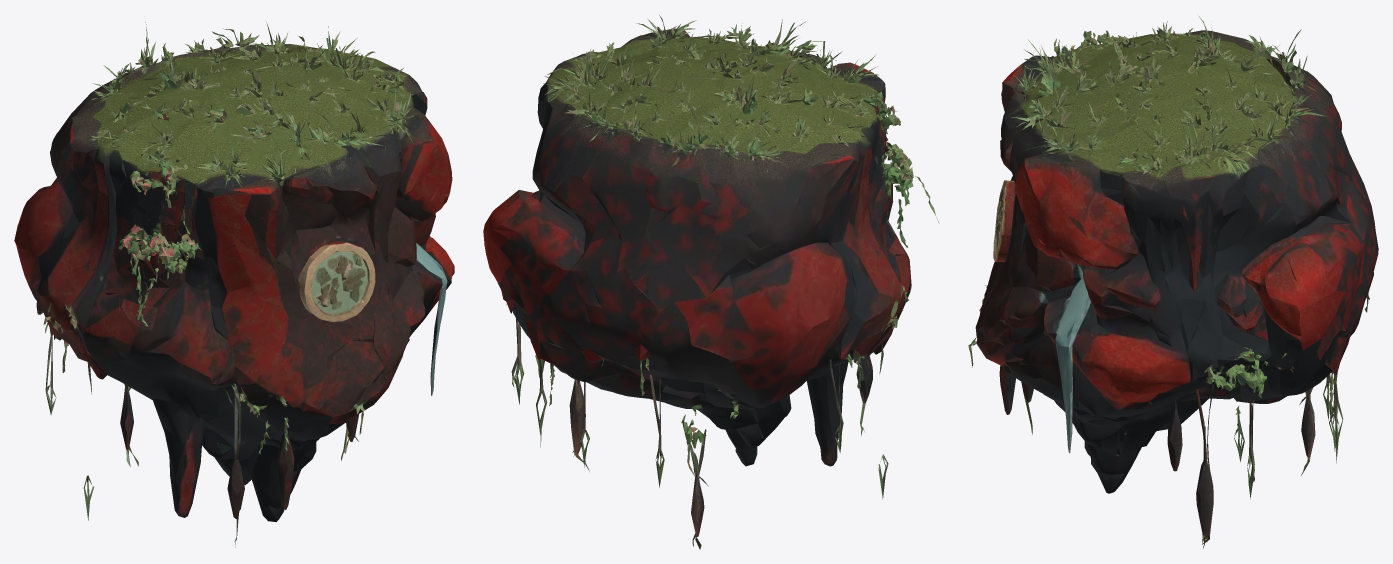
File: rock_island.glb
3 renders of one model, left to right at view 1: azimuth 30°, elevation 25°; view 2: azimuth 150°, elevation 25°; view 3: azimuth 270°, elevation 25°, orthographic.
Size of the model in its own units: 1.61 by 1.79 by 1.46.
Materials: 1 (1 with a texture image).
